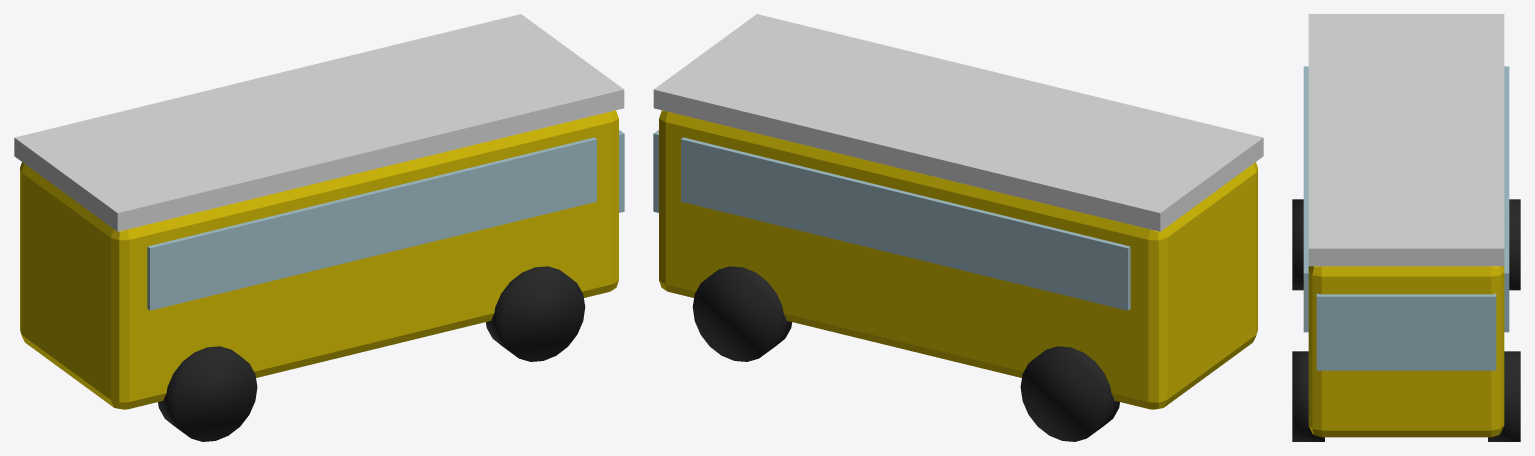
File: bus.glb
The picture shows the model from 3 angles, left to right: view 1: azimuth 30°, elevation 25°; view 2: azimuth 150°, elevation 25°; view 3: azimuth 270°, elevation 25°; orthographic projection. The views are drawn at different scales.
Parts seen in each view (by area): view 1: bus; view 2: bus; view 3: bus.
Boxes of the visible parts, left/top/right/bottom form: bus: left=14, top=14, right=624, bottom=441; bus: left=653, top=14, right=1263, bottom=441; bus: left=1292, top=14, right=1520, bottom=441.
Bounding box in the file's own units: 0.343 × 0.156 × 0.14.
